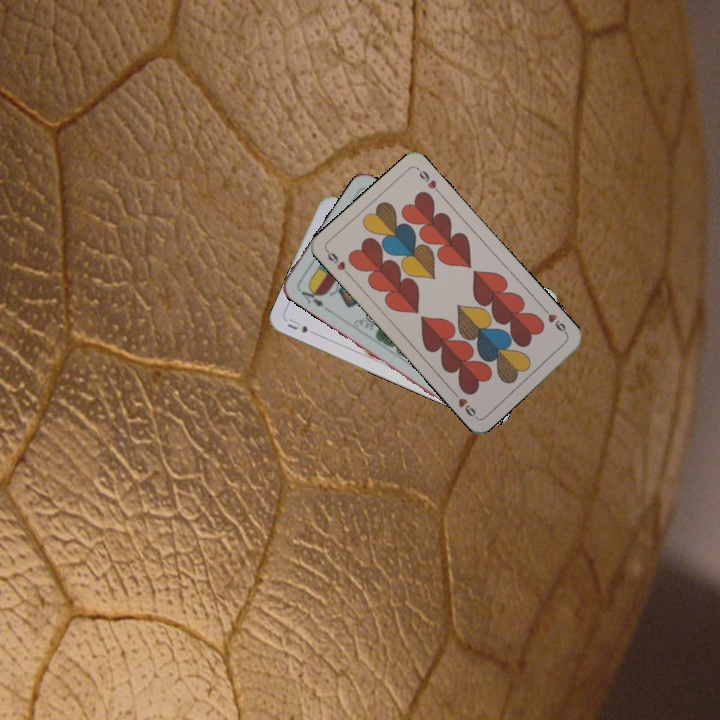EA: (297, 283, 330, 313)
H9: (540, 304, 571, 338), (322, 246, 353, 279)
SU: (283, 314, 310, 336)
